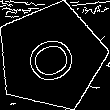O_NE: (18, 27, 84, 86)
